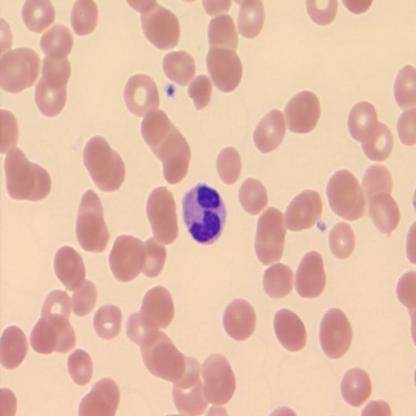Segmented neutrophil: (182, 180, 228, 246)
